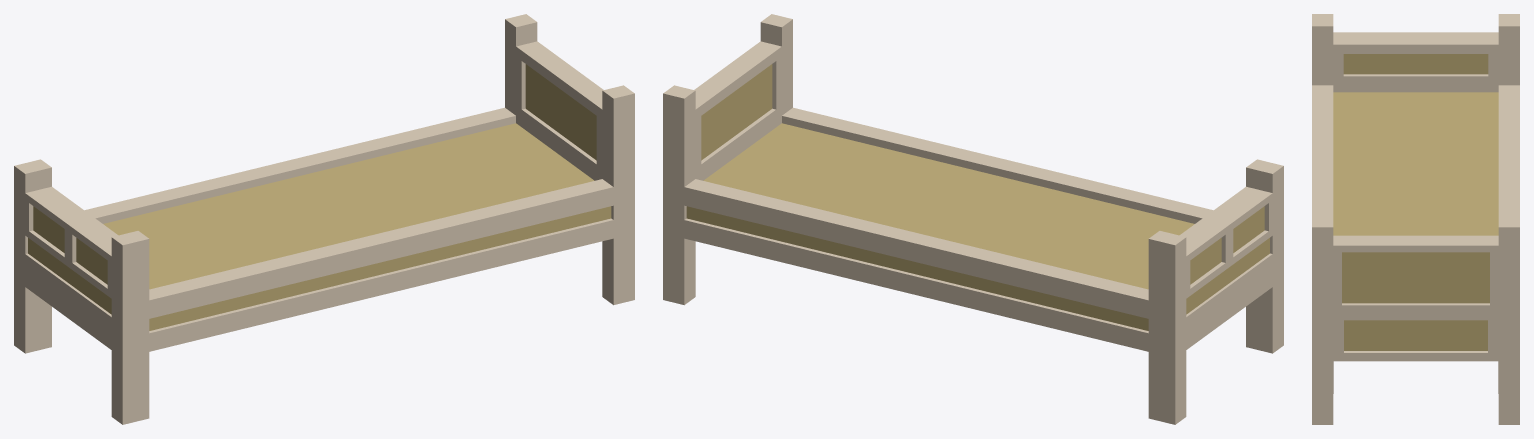
File: SM_Bed.fbx
3 renders of one model, left to right at view 1: azimuth 30°, elevation 25°; view 2: azimuth 150°, elevation 25°; view 3: azimuth 270°, elevation 25°, orthographic. The views are drawn at different scales.
Visible parts, largest first — view 1: SM_Bed; view 2: SM_Bed; view 3: SM_Bed.
Boxes of the visible parts, x1,y1,x2,y2 form: SM_Bed: [14, 14, 634, 424]; SM_Bed: [663, 14, 1283, 424]; SM_Bed: [1312, 14, 1519, 424].
Bounding box in the file's own units: 1378 × 531 × 506.
